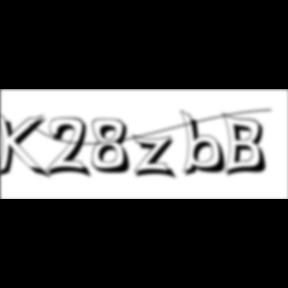2: (45, 117, 95, 181)
8: (92, 117, 138, 176)
B: (223, 111, 273, 179)
K: (0, 110, 54, 182)
b: (180, 109, 234, 179)
z: (132, 134, 181, 182)
